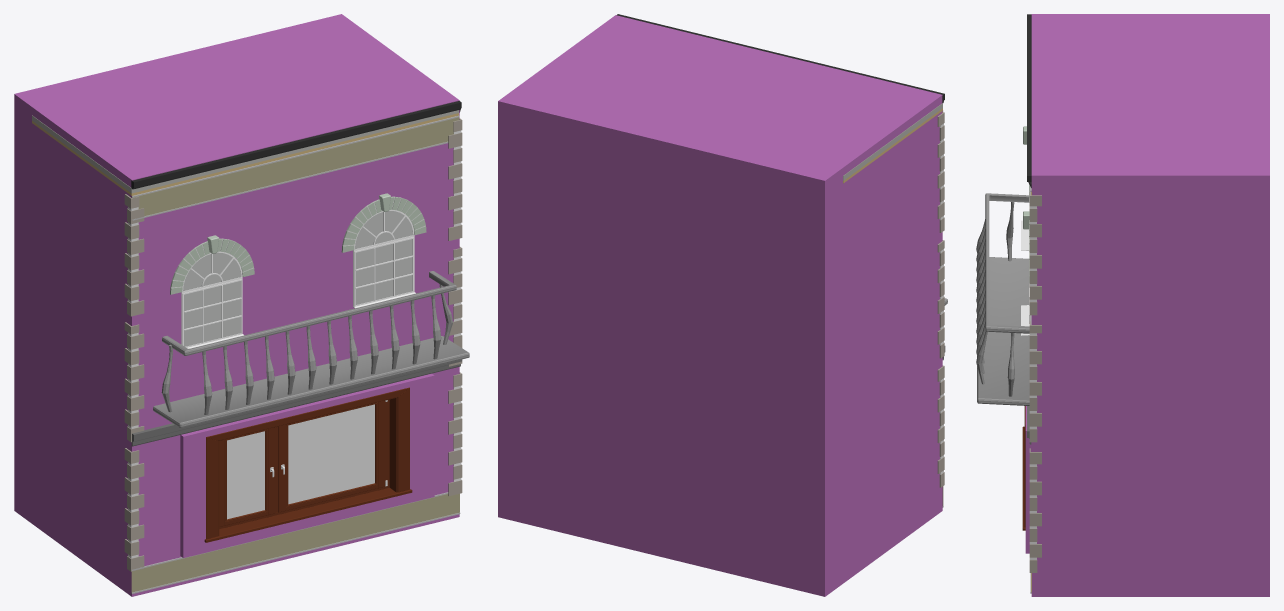
The model's file is last_build_3.fbx.
3 views of the same model, side by side, from view 1: azimuth 30°, elevation 25°; view 2: azimuth 150°, elevation 25°; view 3: azimuth 270°, elevation 25° (orthographic).
Parts seen in each view (by area): view 1: building_3; view 2: building_3; view 3: building_3.
Boxes of the visible parts, <box> form: building_3: <box>14,14,469,596</box>; building_3: <box>498,14,947,596</box>; building_3: <box>976,14,1269,596</box>.
Size of the model in its own units: 67.5 by 81.27 by 51.33.
